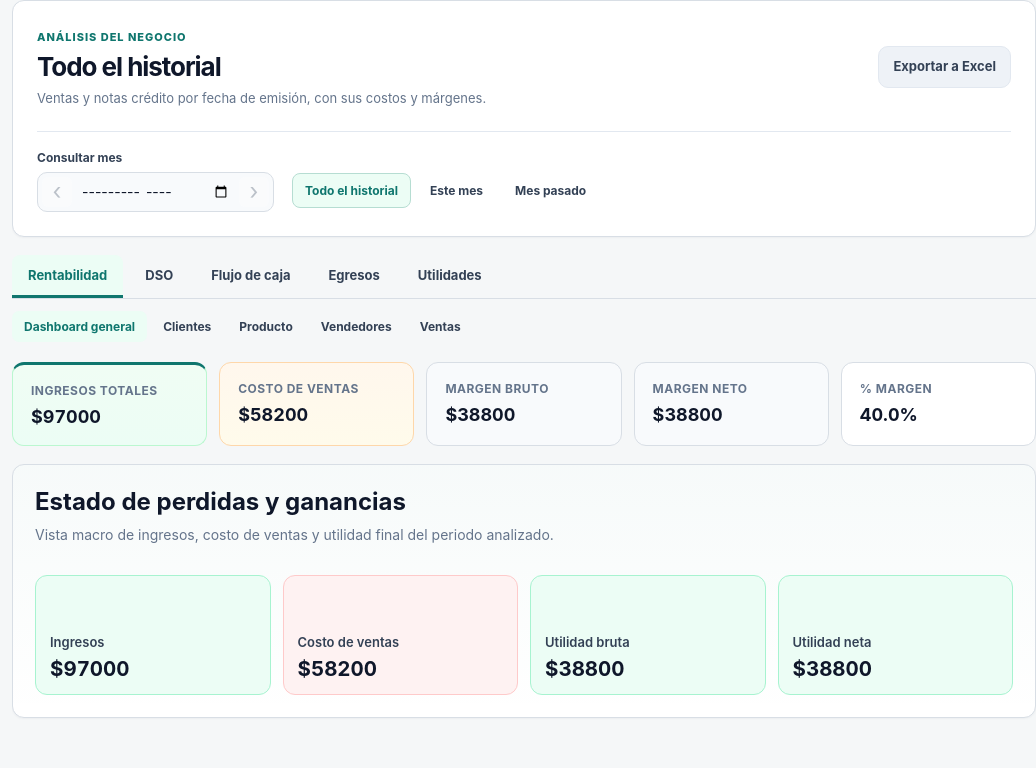
Test case: monthly reports › keeps credits from older sales in their own month, with negative margins and the original seller
Type "2026-12" into the field labelled "Consultar mes". click: (156, 192)
box: [76, 177, 235, 206]
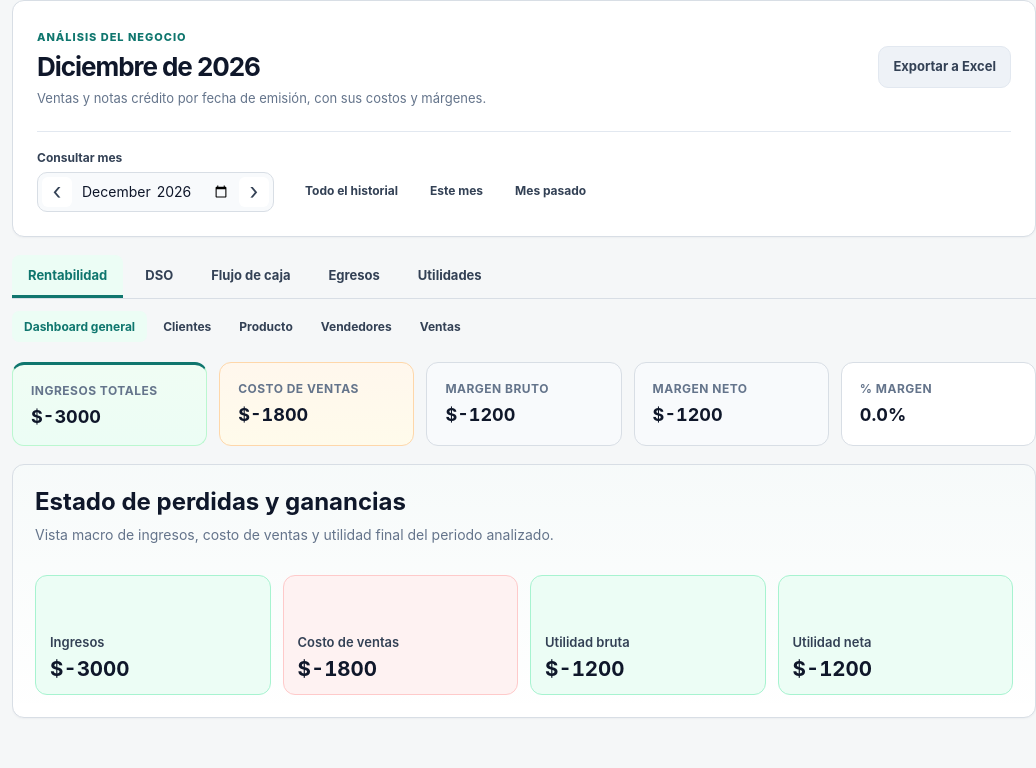
Result: the text "Ingresos totales" shows "$-3000" at [31, 406, 101, 427]
Result: the text "Margen bruto" shows "$-1200" at [445, 404, 515, 425]
Click the tab "Vendedores". click: (356, 326)
box: [309, 311, 404, 342]
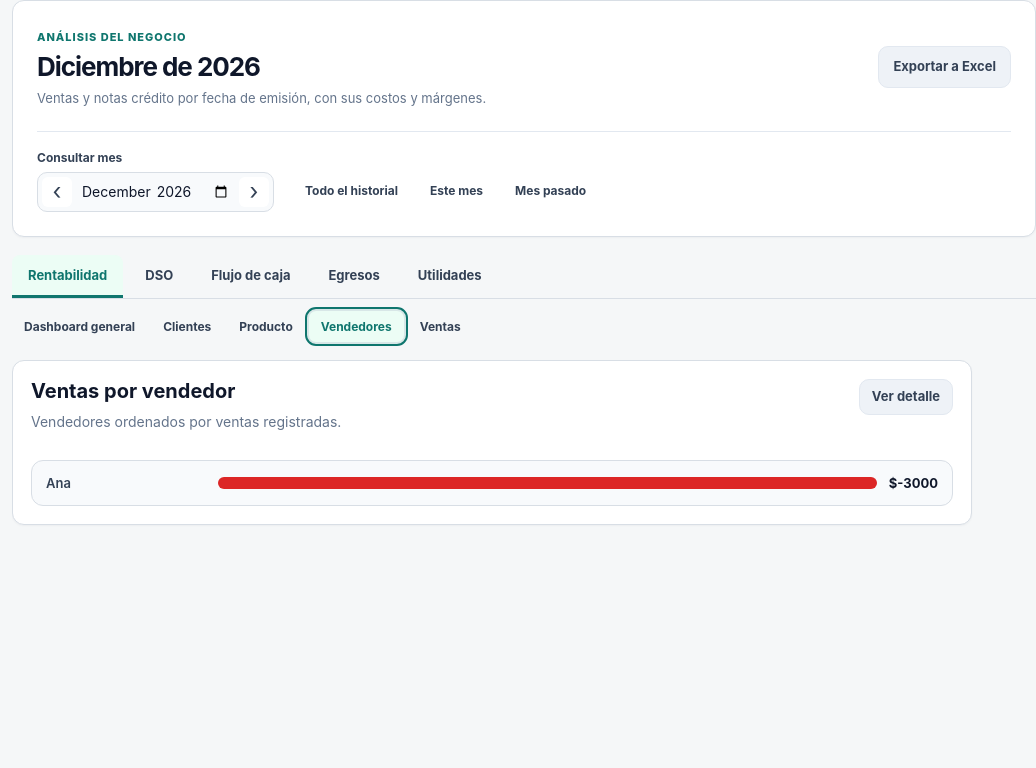
Click the button with aria-label "Abrir detalle de ventas por vendedor". click: (492, 483)
box: [31, 460, 953, 506]
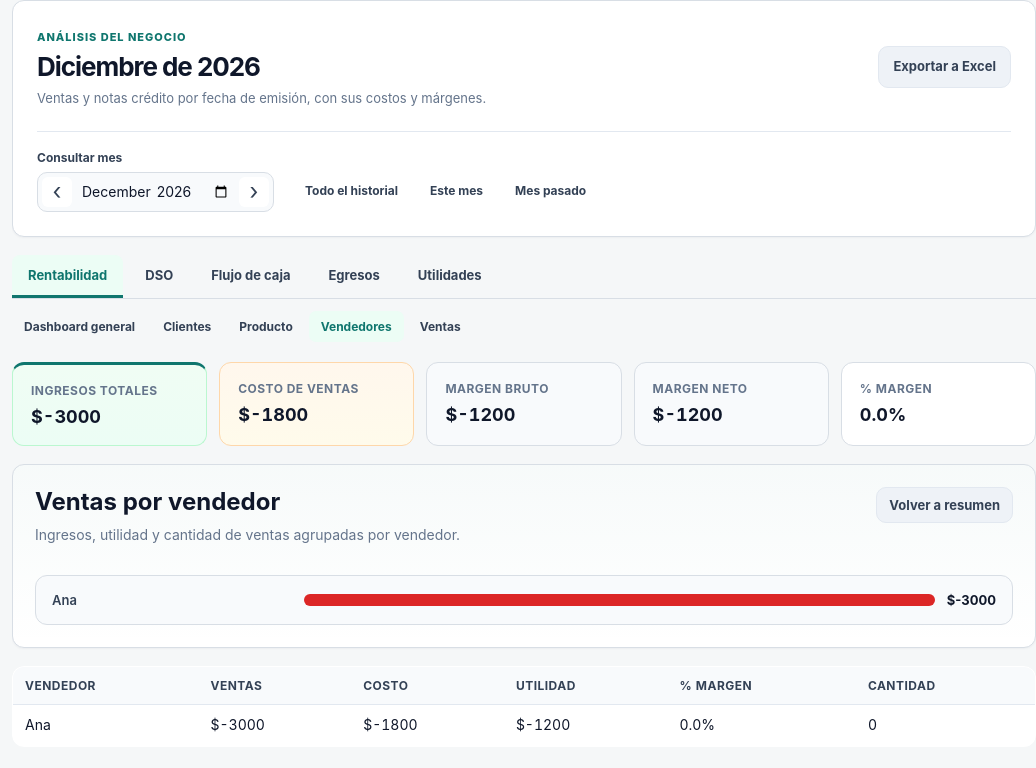
Result: the text "Ana" is shown at [12, 705, 198, 747]
Click the tab "Flujo de caja". click: (251, 276)
box: [195, 255, 306, 298]
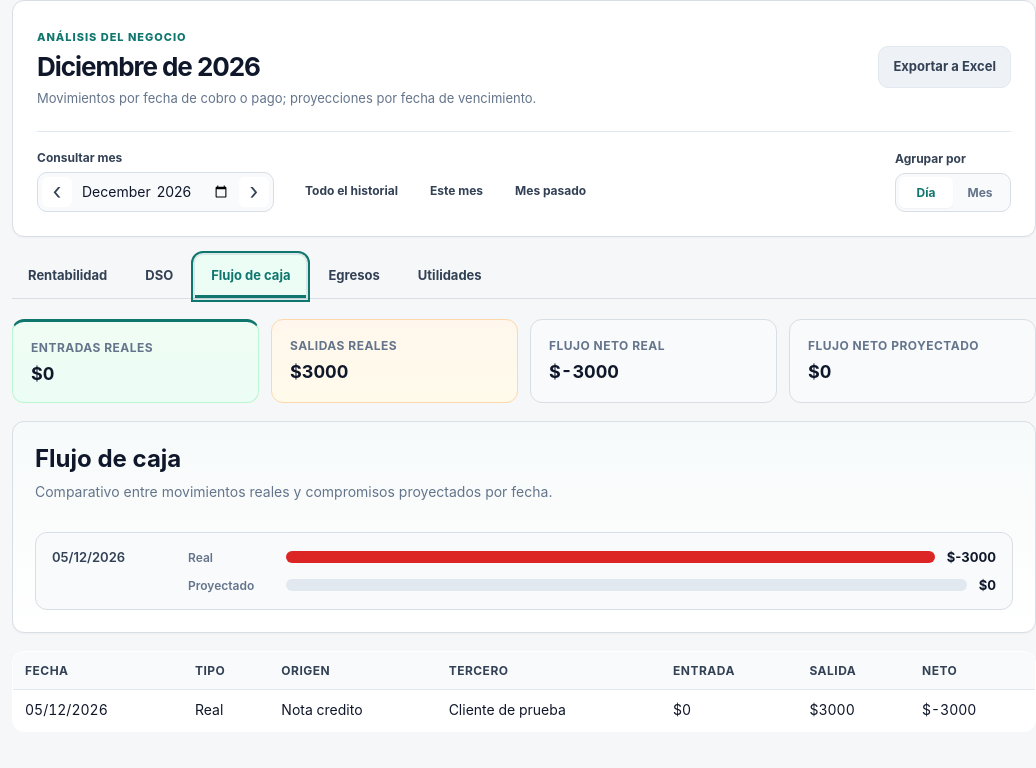
Result: the text "Nota credito" is shown at [269, 690, 437, 732]
Result: the text "Salidas reales" shows "$3000" at [290, 361, 348, 382]
Click the tab "Utilidades". click: (450, 276)
box: [402, 255, 498, 298]
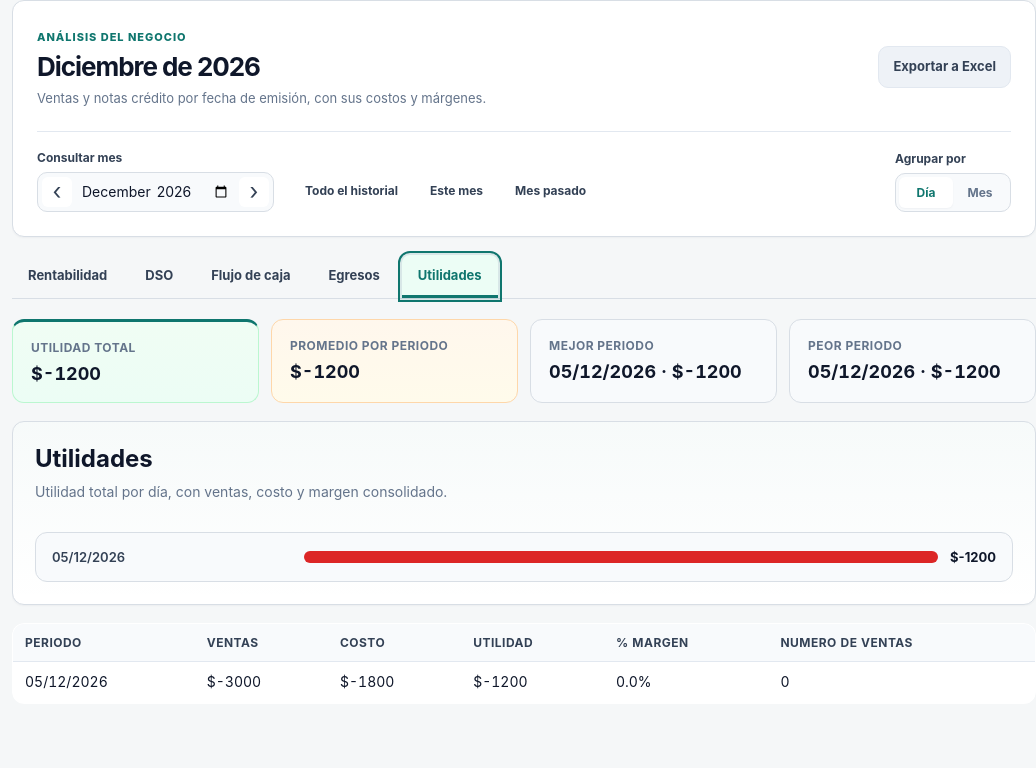
Result: the element with class "report-bar-fill-negative" is shown at [304, 551, 938, 563]
Result: the text "Utilidad total" shows "$-1200" at [31, 363, 101, 384]
